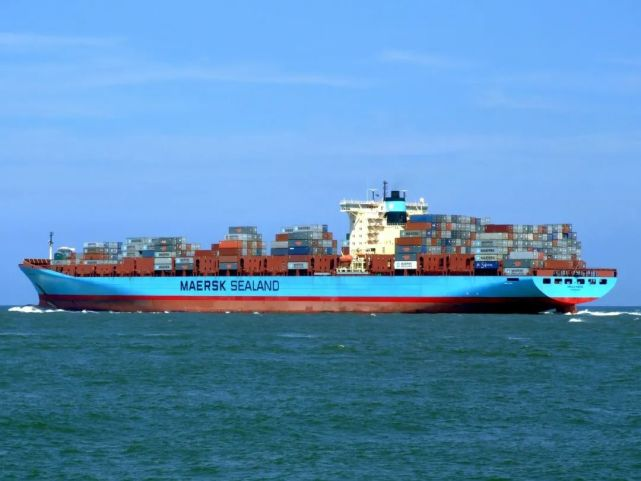Cargoship: (20, 181, 630, 317)
